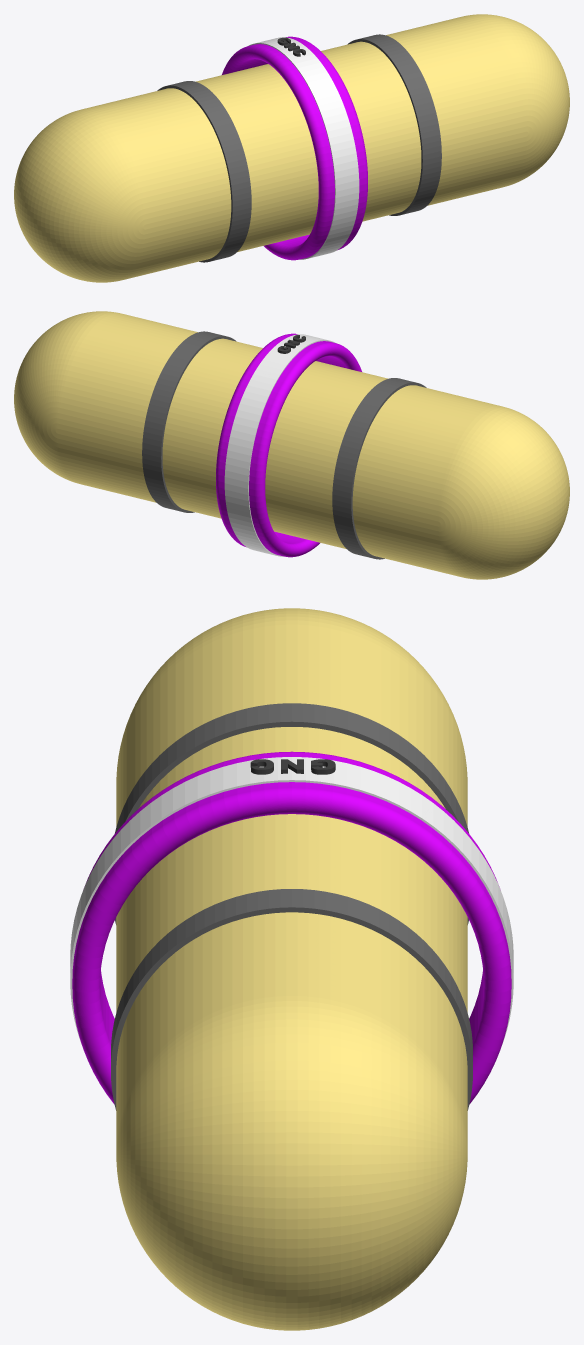
The model's file is gnc_limpio.gltf.
The picture shows the model from 3 angles, top to bottom: view 1: azimuth 30°, elevation 25°; view 2: azimuth 150°, elevation 25°; view 3: azimuth 270°, elevation 25°; orthographic projection. The views are drawn at different scales.
Size of the model in its own units: 1120 by 412 by 404.
